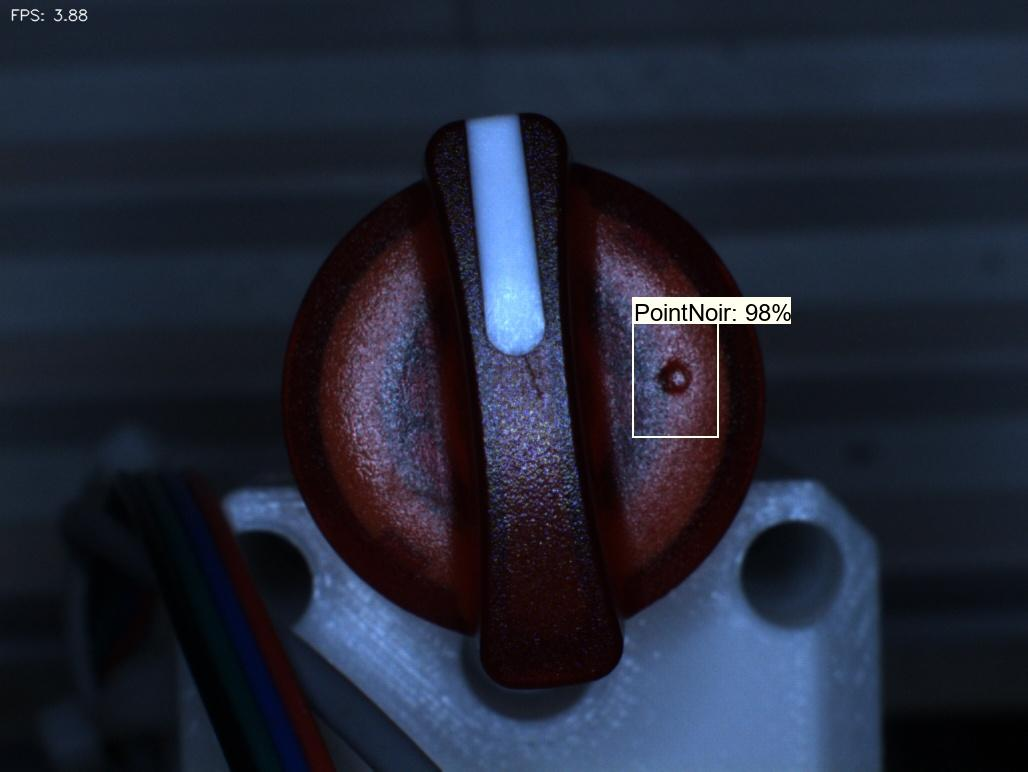Choc: (638, 340, 721, 436)
